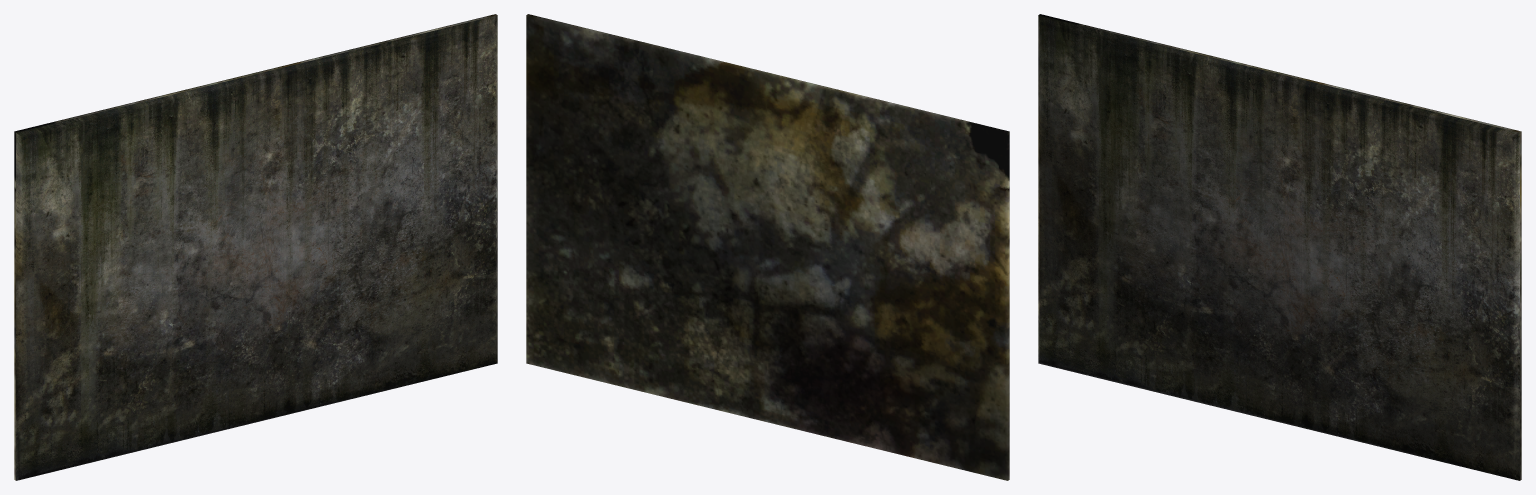
Rendered from bathMirror.FBX.
3 views of the same model, side by side, from view 1: azimuth 30°, elevation 25°; view 2: azimuth 150°, elevation 25°; view 3: azimuth 330°, elevation 25° (orthographic).
Parts seen in each view (by area): view 1: SM_BathMirror01; view 2: SM_BathMirror01; view 3: SM_BathMirror01.
Boxes of the visible parts, x1,y1,x2,y2 form: SM_BathMirror01: [14, 14, 497, 480]; SM_BathMirror01: [526, 14, 1009, 480]; SM_BathMirror01: [1038, 14, 1521, 480].
Size of the model in its own units: 123 by 84.66 by 1.74.
1 material, 1 textured.
